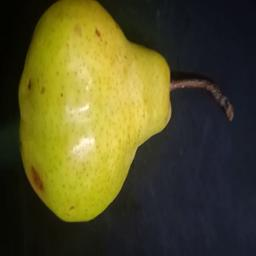Pear Semifresh: (10, 2, 244, 225)
